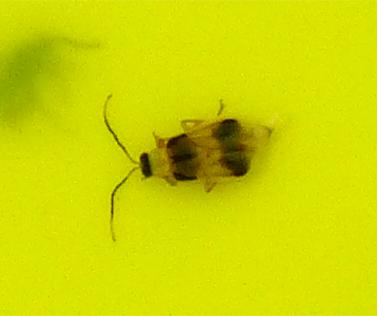Coleoptera: (100, 100, 277, 216)
